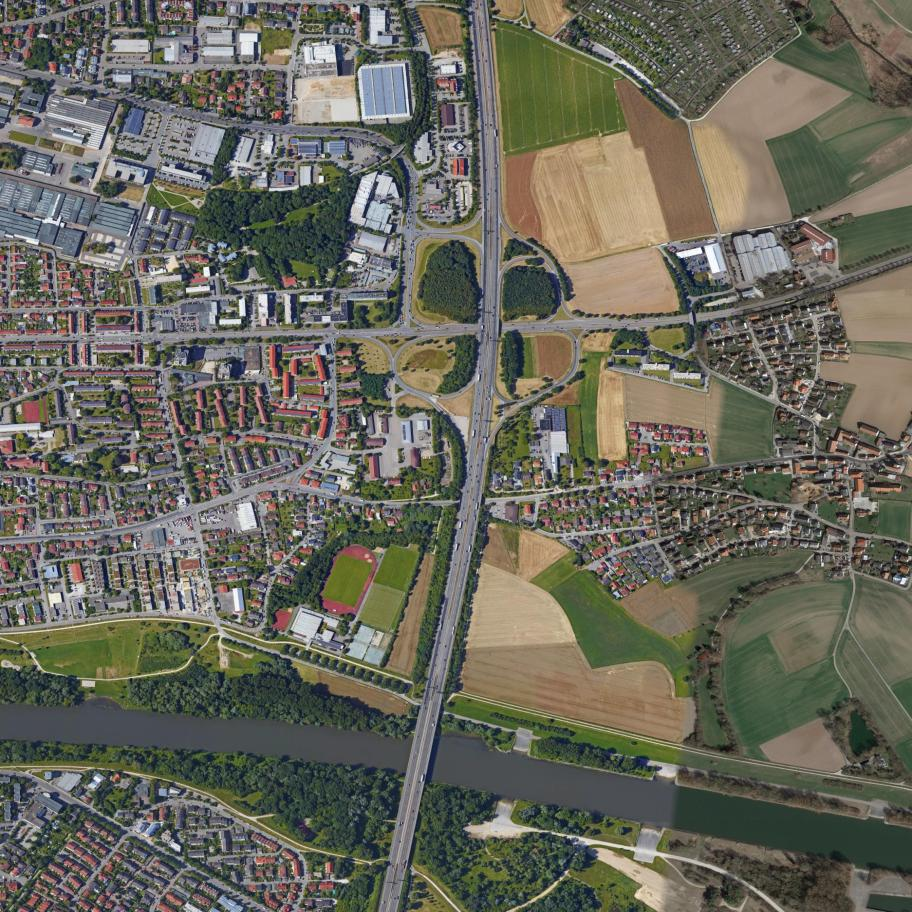large-vehicle: (168, 534, 179, 538), (452, 626, 456, 635), (170, 105, 177, 109), (215, 519, 222, 523), (212, 518, 220, 521), (226, 621, 232, 625), (468, 545, 471, 552), (455, 544, 458, 551), (472, 430, 475, 437), (476, 503, 479, 510), (422, 775, 425, 781), (431, 395, 440, 397), (210, 516, 216, 519), (201, 521, 207, 524), (478, 374, 480, 382), (494, 129, 496, 137), (157, 524, 161, 528), (484, 438, 487, 443), (207, 519, 212, 522), (460, 522, 462, 529), (207, 518, 214, 520), (207, 522, 213, 524), (232, 529, 235, 533), (159, 377, 161, 382), (30, 22, 35, 24), (474, 516, 476, 521), (359, 500, 364, 502), (330, 493, 335, 495), (201, 519, 206, 521), (80, 533, 85, 535), (61, 535, 70, 536), (481, 325, 483, 329), (170, 538, 174, 540), (399, 822, 401, 826), (404, 861, 406, 865), (201, 518, 207, 519), (139, 336, 142, 338), (101, 339, 104, 341), (177, 337, 180, 339), (164, 613, 168, 614), (119, 339, 123, 340), (91, 533, 94, 534), (85, 338, 88, 339)
small-vehicle: (484, 209, 486, 213), (383, 901, 385, 905), (401, 821, 403, 825), (397, 896, 399, 900), (473, 1, 475, 4), (486, 39, 488, 42), (485, 60, 487, 63), (485, 169, 487, 172), (487, 232, 489, 235), (492, 314, 494, 317), (432, 723, 434, 726), (432, 714, 434, 717), (425, 707, 427, 710), (480, 4, 482, 6), (487, 193, 489, 195), (486, 199, 488, 201), (490, 124, 492, 126), (408, 785, 410, 787), (476, 8, 477, 10), (482, 23, 483, 25), (479, 60, 480, 62), (492, 115, 493, 117), (431, 678, 432, 680), (417, 791, 418, 793), (487, 154, 488, 155)
